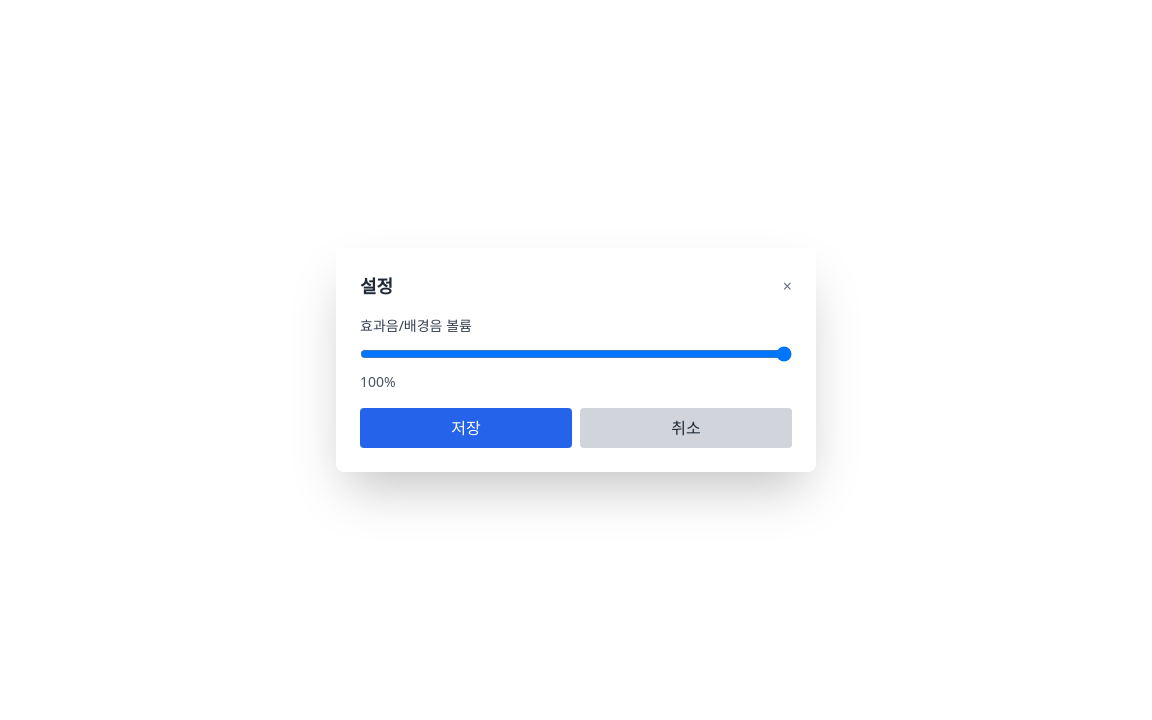
Test case: SettingsModal › should change volume
Step 1. Set the slider to "80" → (701, 354), box [360,346,792,362]
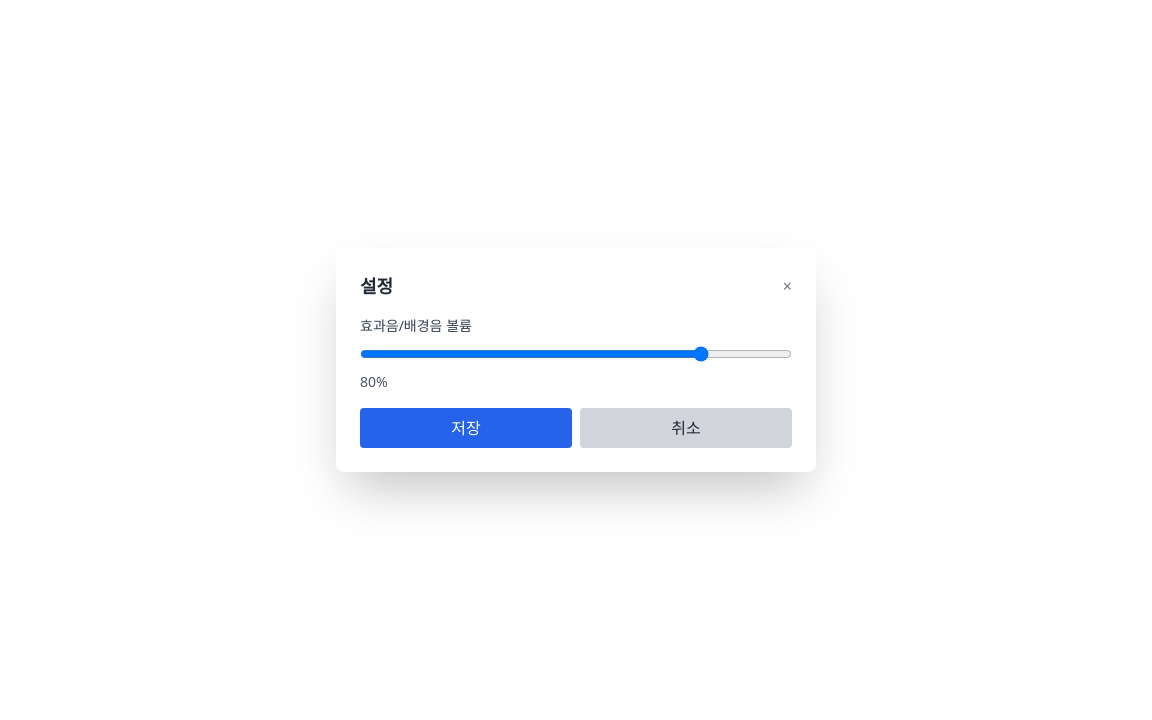
Result: the text "80%" is shown at [360,372,388,391]
